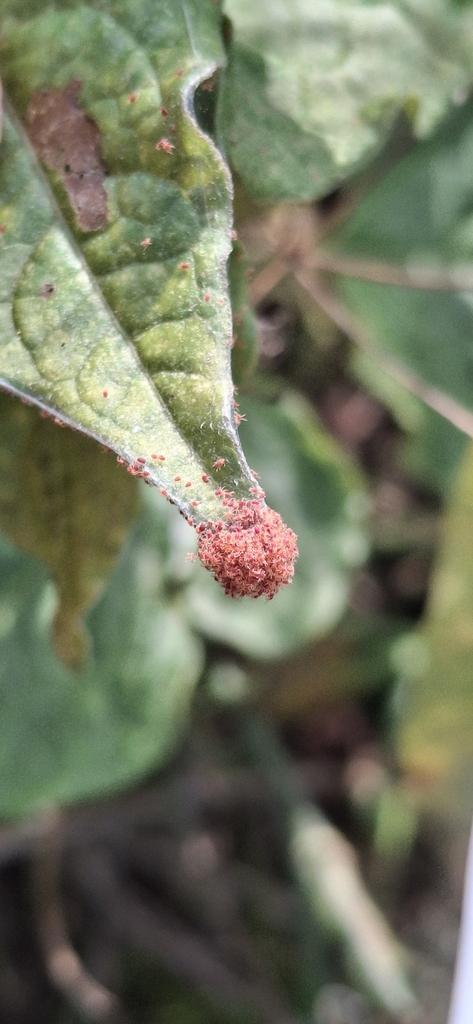tiny_pests: (165, 486, 322, 616)
